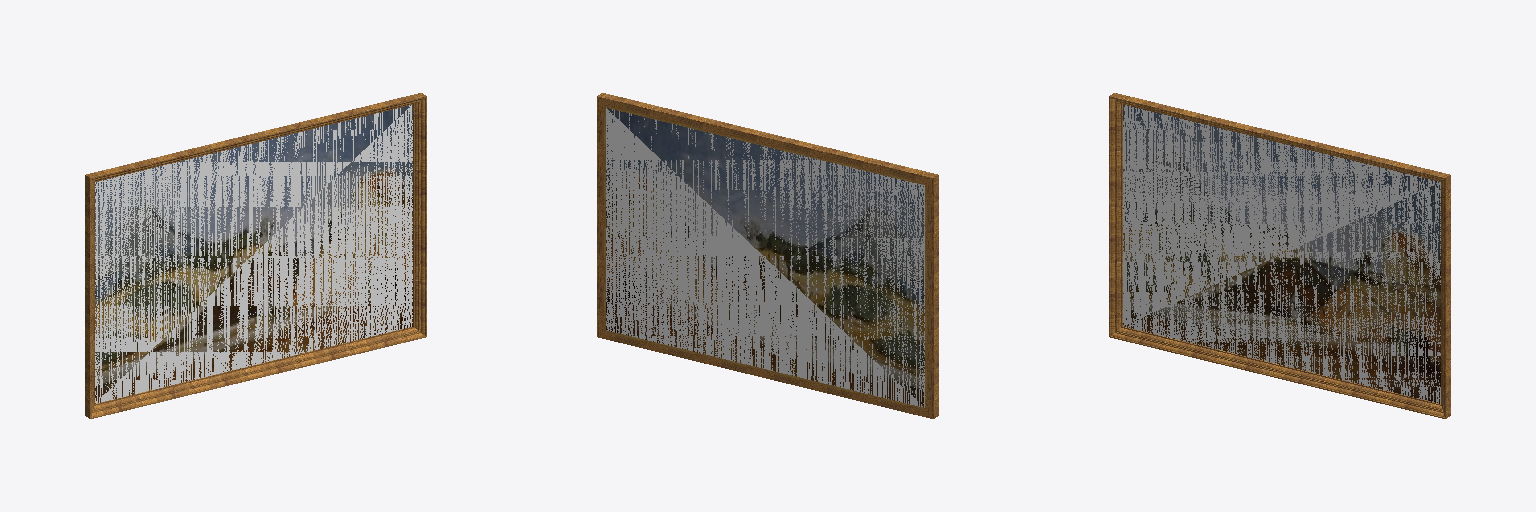
3 renders of one model, left to right at view 1: azimuth 30°, elevation 25°; view 2: azimuth 150°, elevation 25°; view 3: azimuth 330°, elevation 25°, orthographic.
Visible parts, largest first — view 1: painting; view 2: painting; view 3: painting.
Boxes of the visible parts, x1,y1,x2,y2 form: painting: [85, 93, 426, 418]; painting: [597, 93, 938, 418]; painting: [1109, 93, 1450, 418].
Size of the model in its own units: 76 by 52 by 2.
Materials: 6 (2 with a texture image).